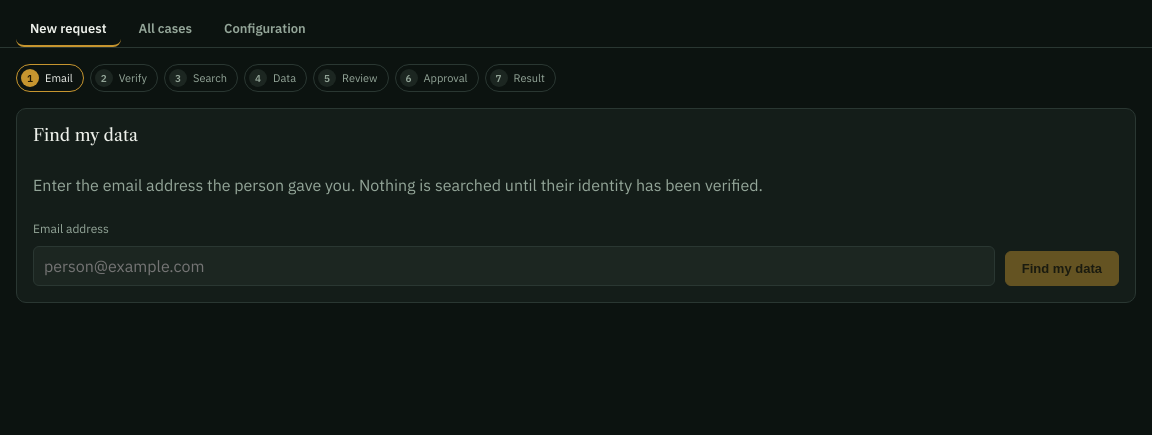
Scenario: DsrConsole: tab wiring › switching to All cases loads cases from the real endpoint and renders them
Click the tab "All cases" at (165, 30), box [124, 12, 206, 47]
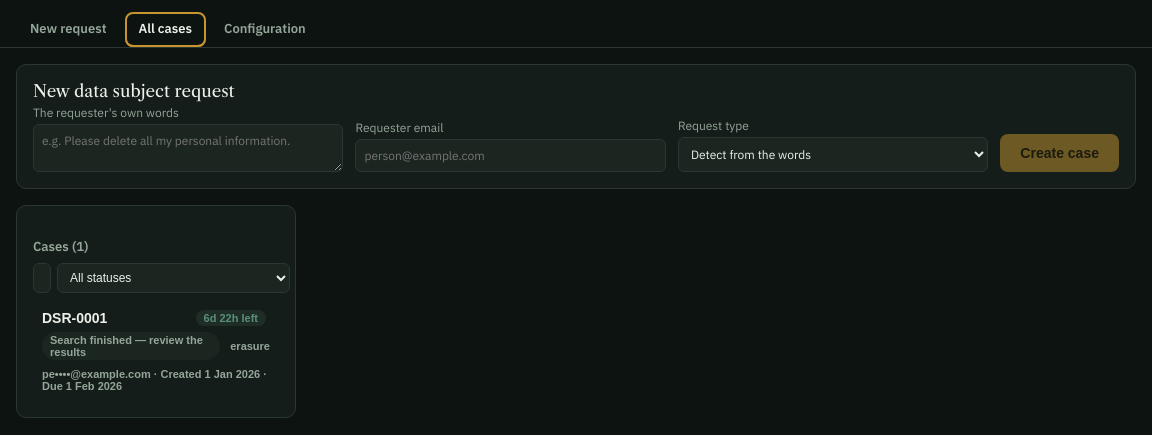
Now the text "DSR-0001" is shown, box [42, 310, 107, 326]
